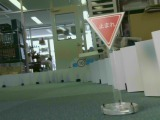stop: (86, 12, 124, 49)
